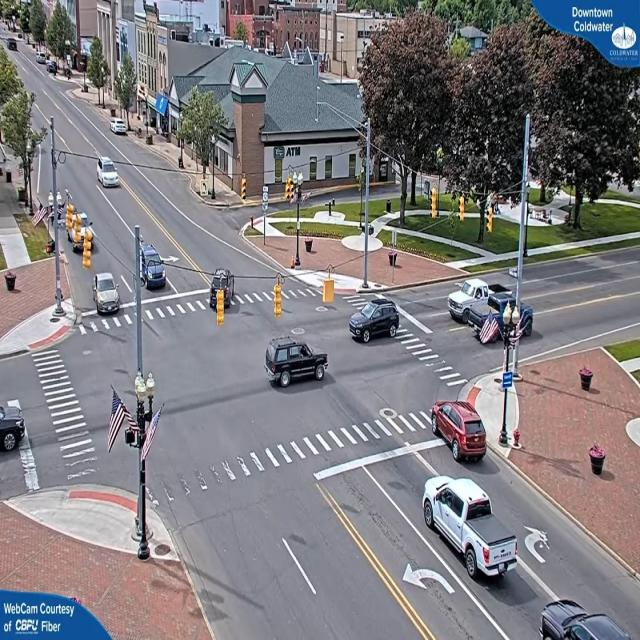car: (421, 476, 514, 583), (540, 602, 640, 639), (434, 400, 488, 463), (264, 338, 327, 392), (471, 295, 531, 339), (348, 296, 400, 344), (445, 280, 489, 317), (138, 241, 166, 289), (1, 403, 26, 456), (95, 272, 121, 315), (213, 267, 234, 314), (96, 158, 121, 190), (112, 120, 130, 136)
